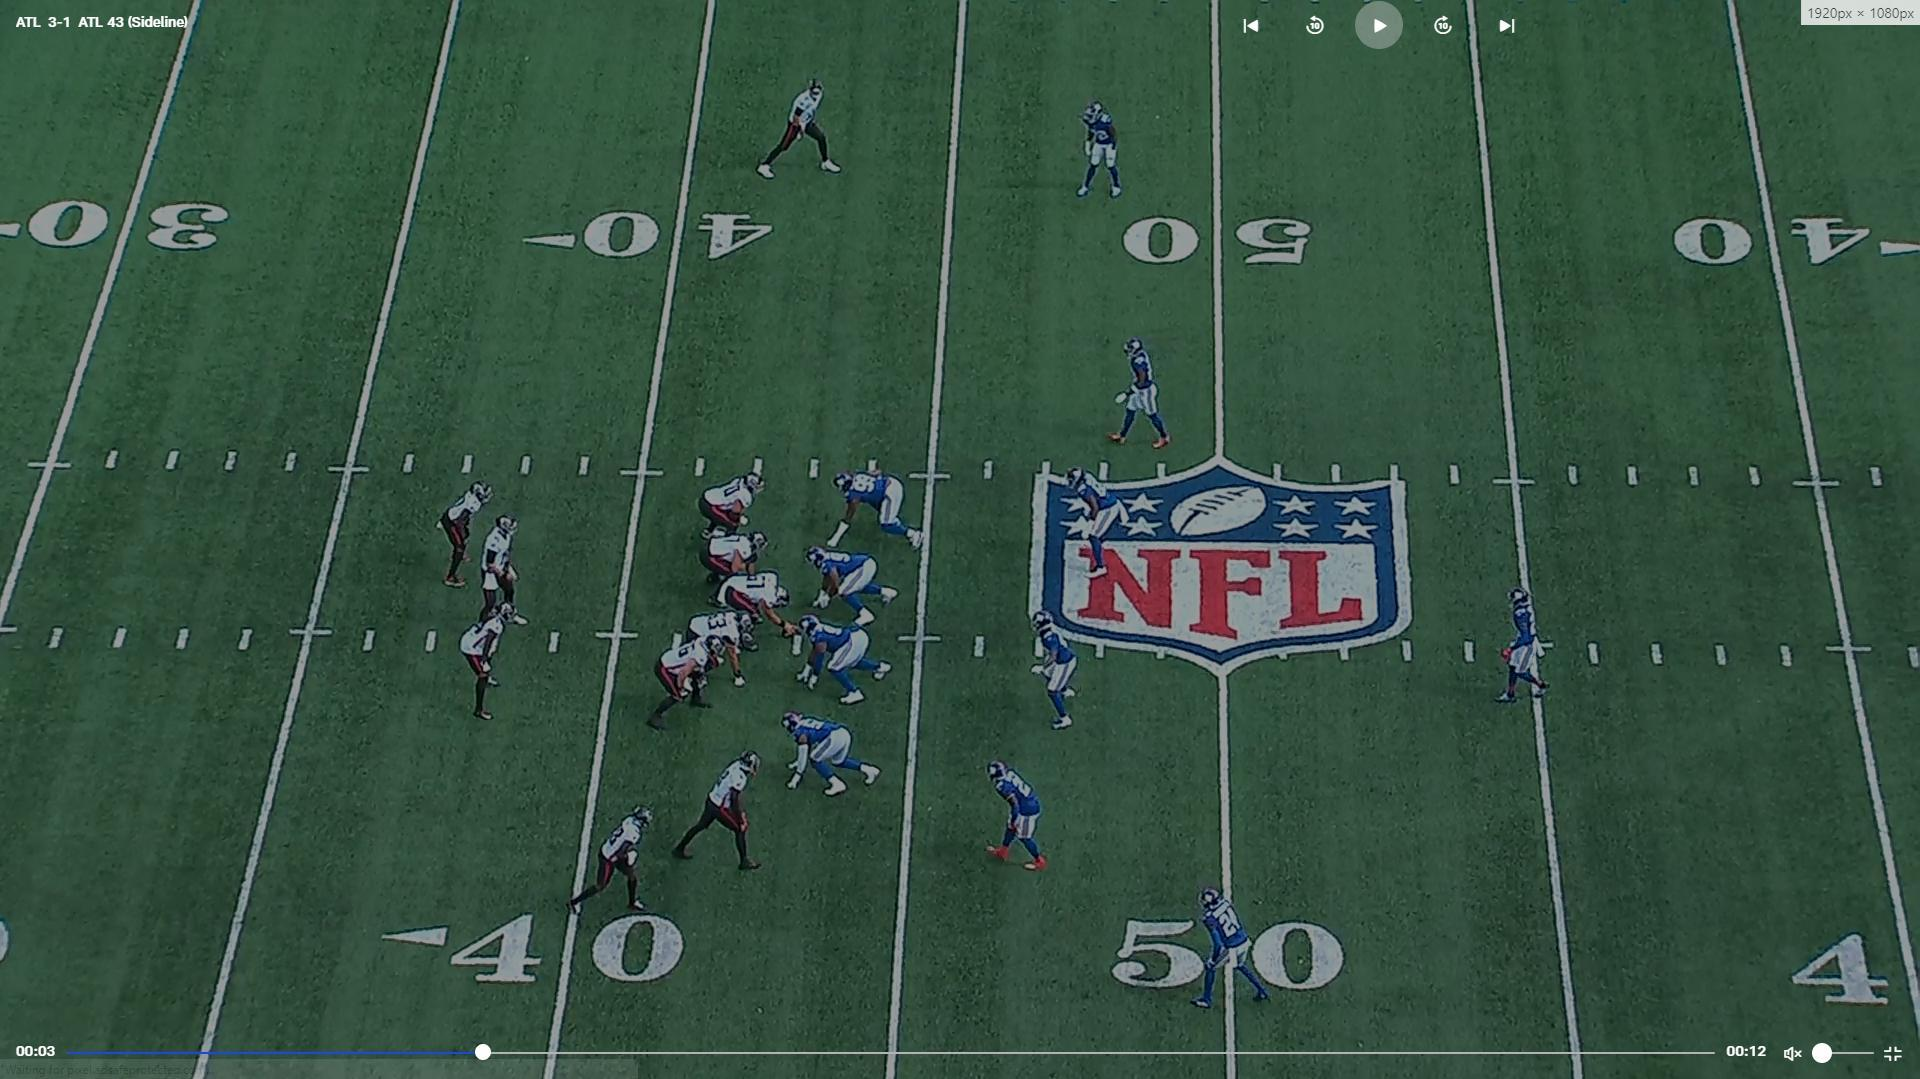defense: (1189, 885, 1271, 1016), (782, 711, 884, 802), (798, 611, 894, 702), (1064, 459, 1135, 582), (981, 760, 1052, 879), (829, 466, 926, 553), (1104, 331, 1174, 450), (807, 545, 899, 625), (1031, 605, 1085, 731), (1497, 584, 1549, 708), (1071, 99, 1127, 210)
oline: (645, 641, 716, 733), (717, 569, 798, 645), (683, 608, 753, 691), (696, 533, 762, 609), (694, 468, 760, 541)
qb: (472, 512, 533, 632)
skill: (676, 752, 770, 882), (567, 805, 658, 922), (758, 74, 851, 183), (454, 599, 513, 727), (436, 484, 495, 596)
